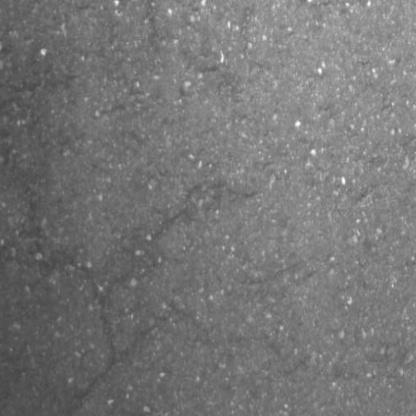Cracks: (34, 257, 141, 416), (147, 177, 263, 250)
